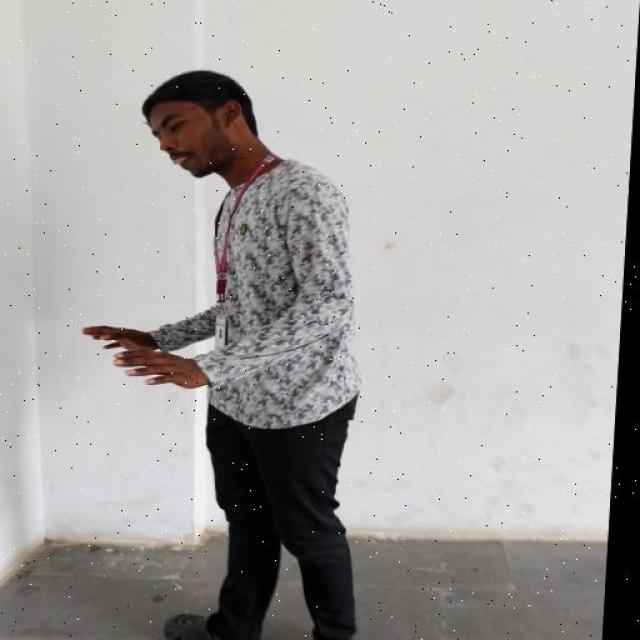id_card: (197, 183, 241, 349)
